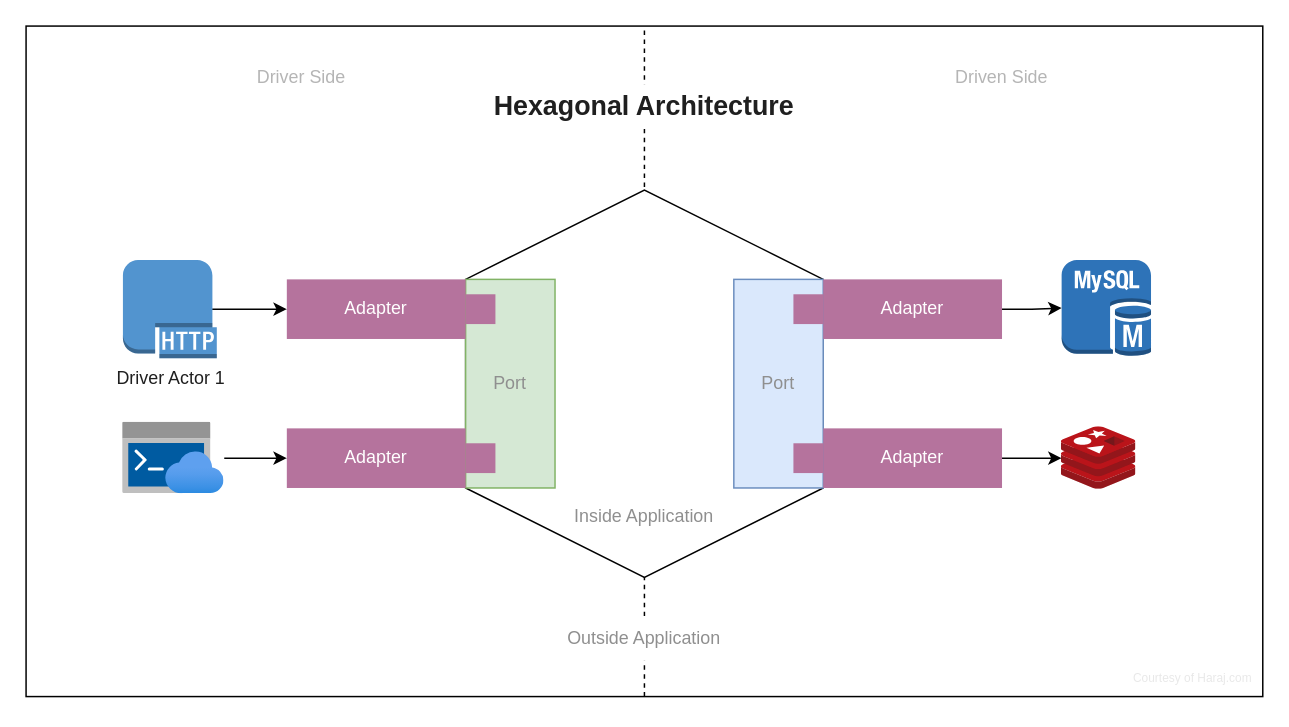
Some shapes in this 1289 by 727 pixel diagram are drawn without their labels. Here are the shapes that lost their labels. From the top down, the box of each, then its label:
(1060, 259, 1151, 356): Driven Actor 1
(464, 188, 823, 577): Core
(122, 422, 224, 493): Driver Actor 2
(1061, 426, 1135, 489): Driven Actor 2
